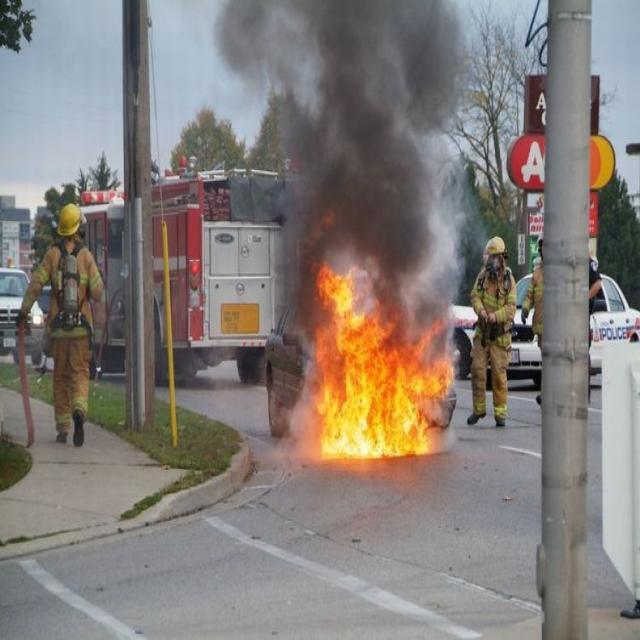Fire: (316, 263, 450, 458)
Smoke: (208, 0, 474, 463)
